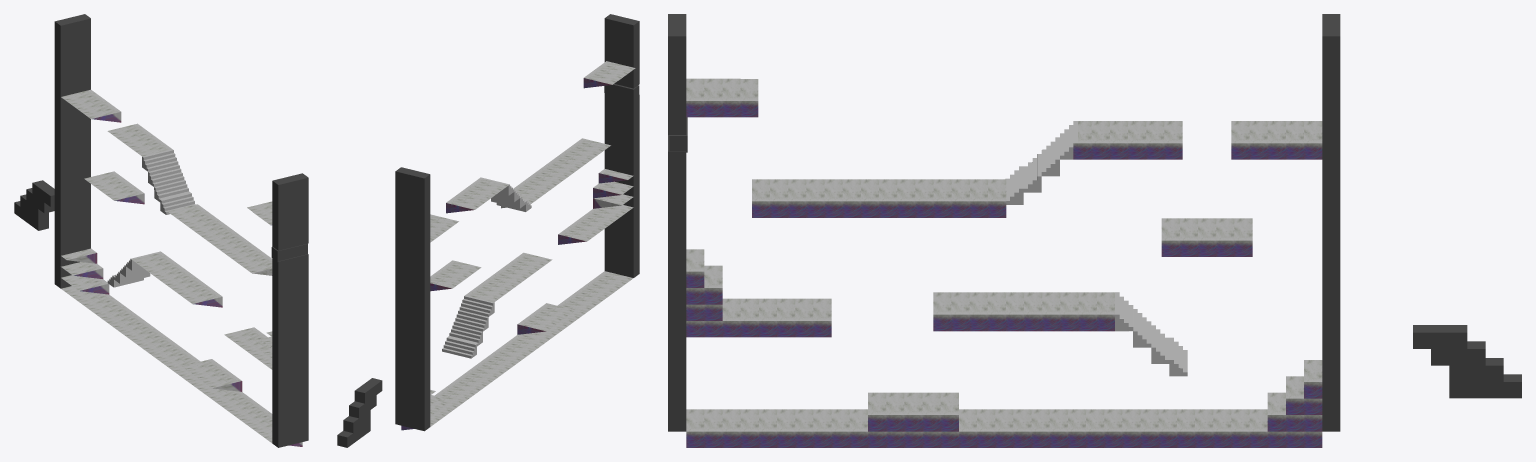
Rendered from MDL_stage_ah.fbx.
The picture shows the model from 3 angles, left to right: view 1: azimuth 30°, elevation 25°; view 2: azimuth 150°, elevation 25°; view 3: azimuth 270°, elevation 25°; orthographic projection. The views are drawn at different scales.
Visible parts, largest first — view 1: pCube11, pCube125, polySurface46, pCube89, pCube115, polySurface10, polySurface37, polySurface21, polySurface39, pCube73, polySurface47, pCube67 (+43 smaller); view 2: pCube11, pCube73, pCube125, polySurface47, pCube89, polySurface39, polySurface37, polySurface21, polySurface29, polySurface46, pCube67, pCube175 (+40 smaller); view 3: pCube11, pCube125, pCube73, pCube89, polySurface39, polySurface37, polySurface21, polySurface10, pCube115, polySurface29, polySurface47, polySurface46.
Part boxes in pixels (x1=…): pCube11: x1=61, y1=286, x2=302, y2=446; pCube125: x1=167, y1=204, x2=272, y2=275; polySurface46: x1=142, y1=149, x2=195, y2=214; pCube89: x1=132, y1=252, x2=222, y2=307; pCube115: x1=61, y1=248, x2=109, y2=294; polySurface10: x1=61, y1=89, x2=121, y2=122; polySurface37: x1=182, y1=359, x2=242, y2=391; polySurface21: x1=84, y1=171, x2=144, y2=204; polySurface39: x1=107, y1=123, x2=171, y2=156; pCube73: x1=224, y1=327, x2=272, y2=369; polySurface47: x1=107, y1=251, x2=161, y2=287; pCube67: x1=272, y1=173, x2=308, y2=195; pCube11: x1=401, y1=271, x2=633, y2=430; pCube73: x1=558, y1=169, x2=633, y2=244; pCube125: x1=501, y1=138, x2=610, y2=208; polySurface47: x1=442, y1=295, x2=494, y2=358; pCube89: x1=465, y1=252, x2=552, y2=302; polySurface39: x1=446, y1=178, x2=507, y2=213; polySurface37: x1=517, y1=303, x2=575, y2=334; polySurface21: x1=430, y1=260, x2=481, y2=291; polySurface29: x1=583, y1=61, x2=635, y2=88; polySurface46: x1=479, y1=177, x2=531, y2=211; pCube67: x1=604, y1=14, x2=639, y2=35; pCube175: x1=395, y1=167, x2=430, y2=188; pCube11: x1=686, y1=409, x2=1322, y2=447; pCube125: x1=752, y1=179, x2=1006, y2=217; pCube73: x1=686, y1=249, x2=831, y2=337; pCube89: x1=933, y1=292, x2=1114, y2=331; polySurface39: x1=1073, y1=121, x2=1182, y2=159; polySurface37: x1=868, y1=392, x2=958, y2=431; polySurface21: x1=1161, y1=218, x2=1252, y2=256; polySurface10: x1=1231, y1=121, x2=1322, y2=159; pCube115: x1=1267, y1=360, x2=1322, y2=431; polySurface29: x1=686, y1=78, x2=758, y2=117; polySurface47: x1=1115, y1=292, x2=1187, y2=376; polySurface46: x1=1005, y1=121, x2=1077, y2=204.
Size of the model in its own units: 331 by 2500 by 4698.
3 materials, 1 textured.
